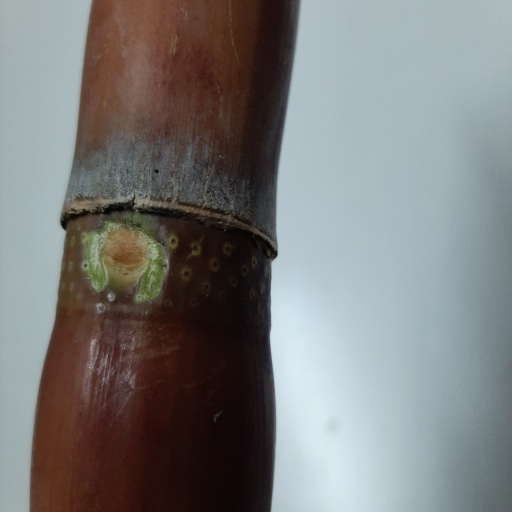Damage_Bud: (92, 222, 157, 277)
